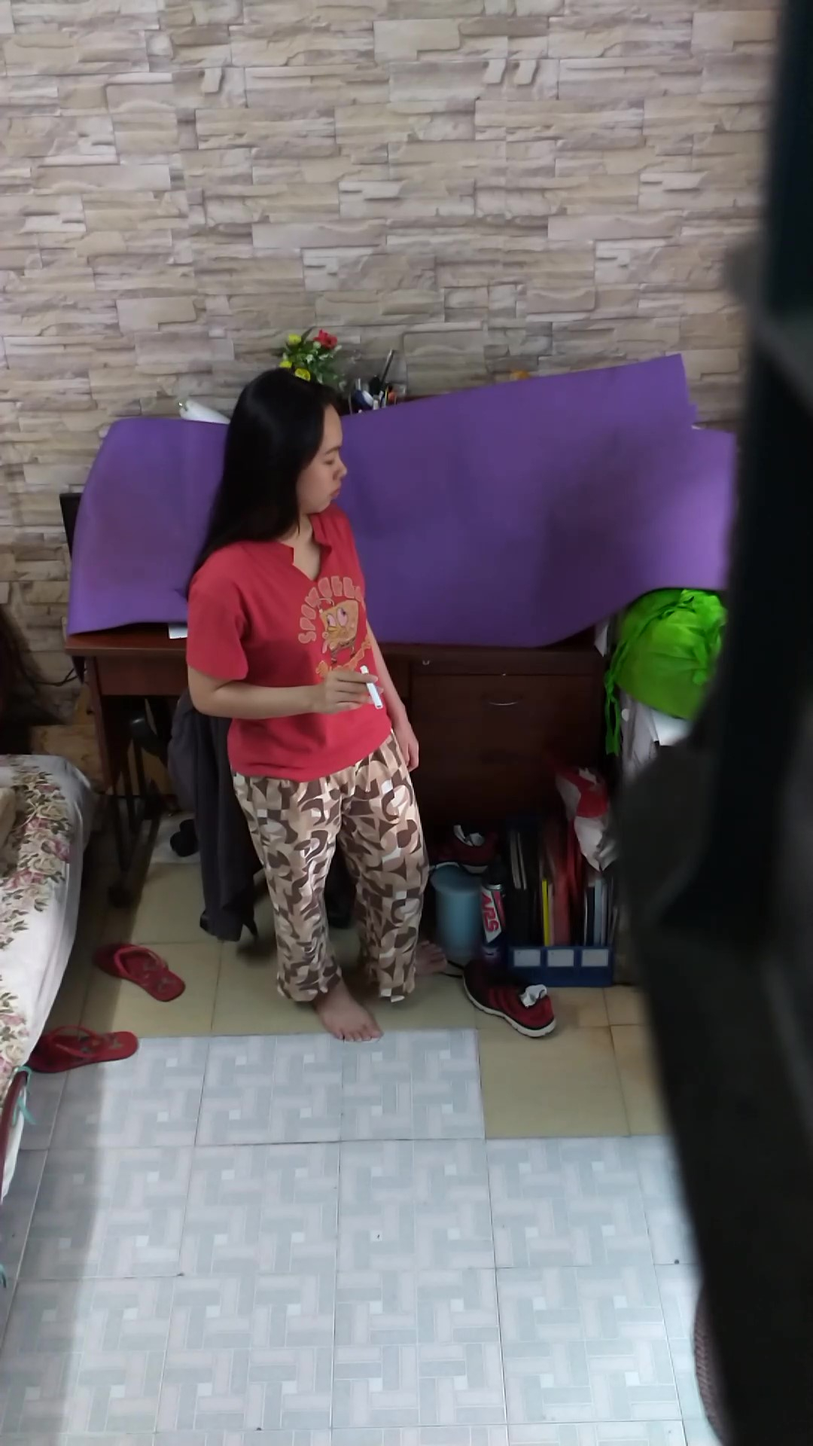cigarette: (365, 682, 387, 717)
person: (181, 368, 433, 1030)
